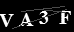3: (38, 10, 49, 25)
A: (18, 12, 34, 27)
F: (57, 10, 72, 24)
V: (1, 13, 14, 27)
